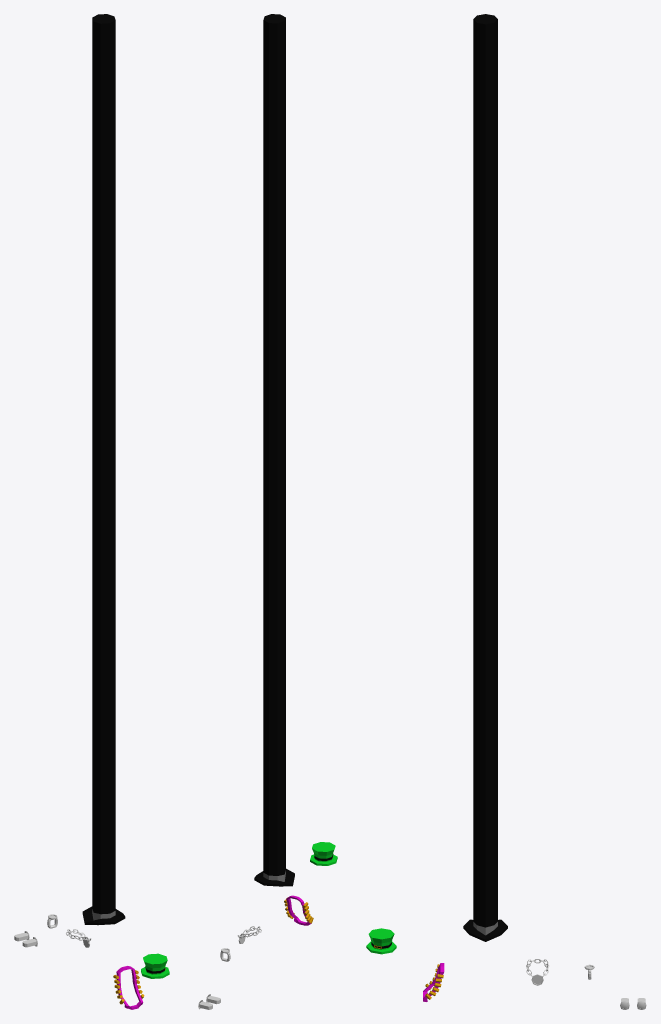
File: Skinprops.fbx
3 renders of one model, left to right at view 1: azimuth 30°, elevation 25°; view 2: azimuth 150°, elevation 25°; view 3: azimuth 270°, elevation 25°, orthographic. The views are drawn at different scales.
Visible parts, largest first — view 1: pCylinder14, LeprechaunHat, Bandolier; view 2: pCylinder14, LeprechaunHat, Bandolier; view 3: pCylinder14.
Part boxes in pixels (left/top/right/bottom): pCylinder14: left=82, top=14, right=125, bottom=925; LeprechaunHat: left=141, top=953, right=169, bottom=978; Bandolier: left=113, top=966, right=144, bottom=1009; pCylinder14: left=254, top=14, right=294, bottom=886; LeprechaunHat: left=310, top=842, right=337, bottom=865; Bandolier: left=284, top=895, right=313, bottom=925; pCylinder14: left=463, top=14, right=507, bottom=941.
Bounding box in the file's own units: 0.8585 × 21.01 × 5.38.
